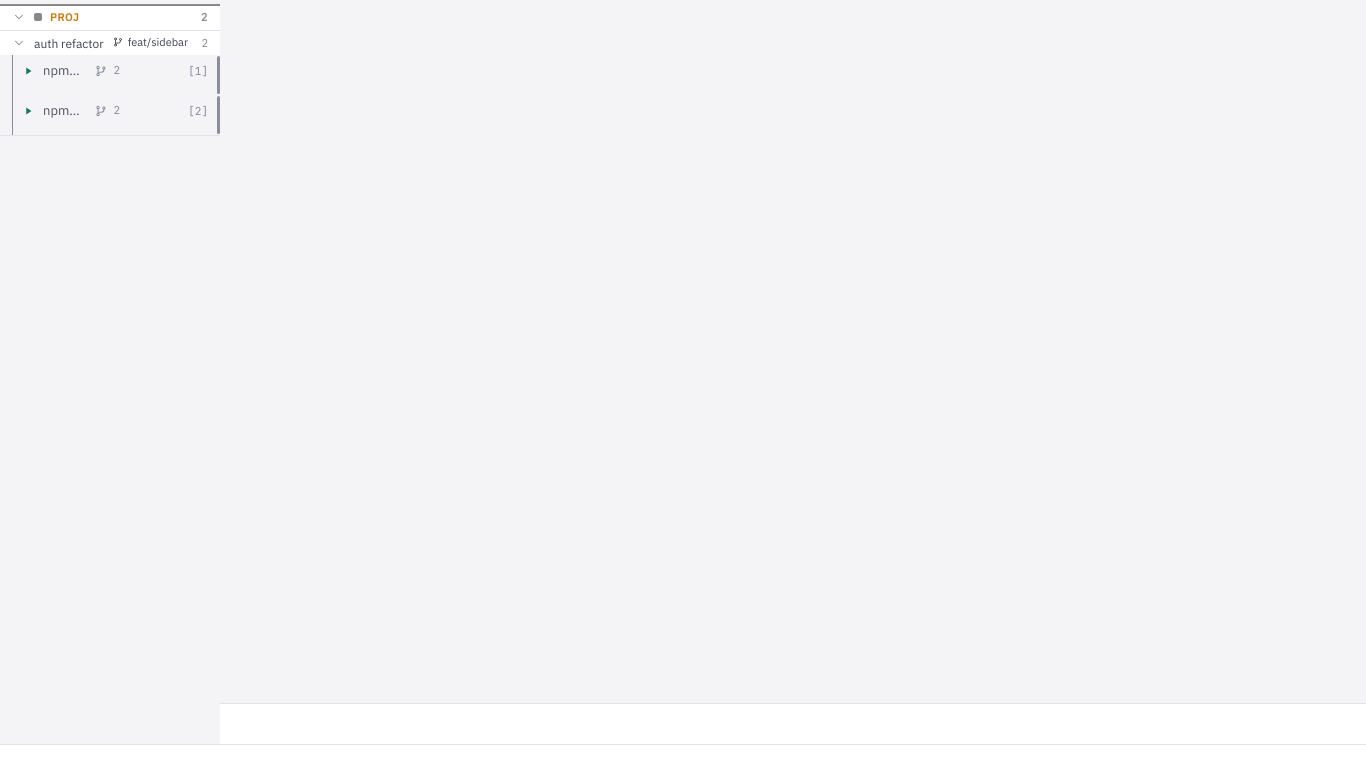
Test: worktree group rename › seeds the editor with the name once the group has one
This screenshot has width=1366, height=768.
Double-click the element with class "hv-worktree-group__title" at (114, 43), box [34,35,193,51]
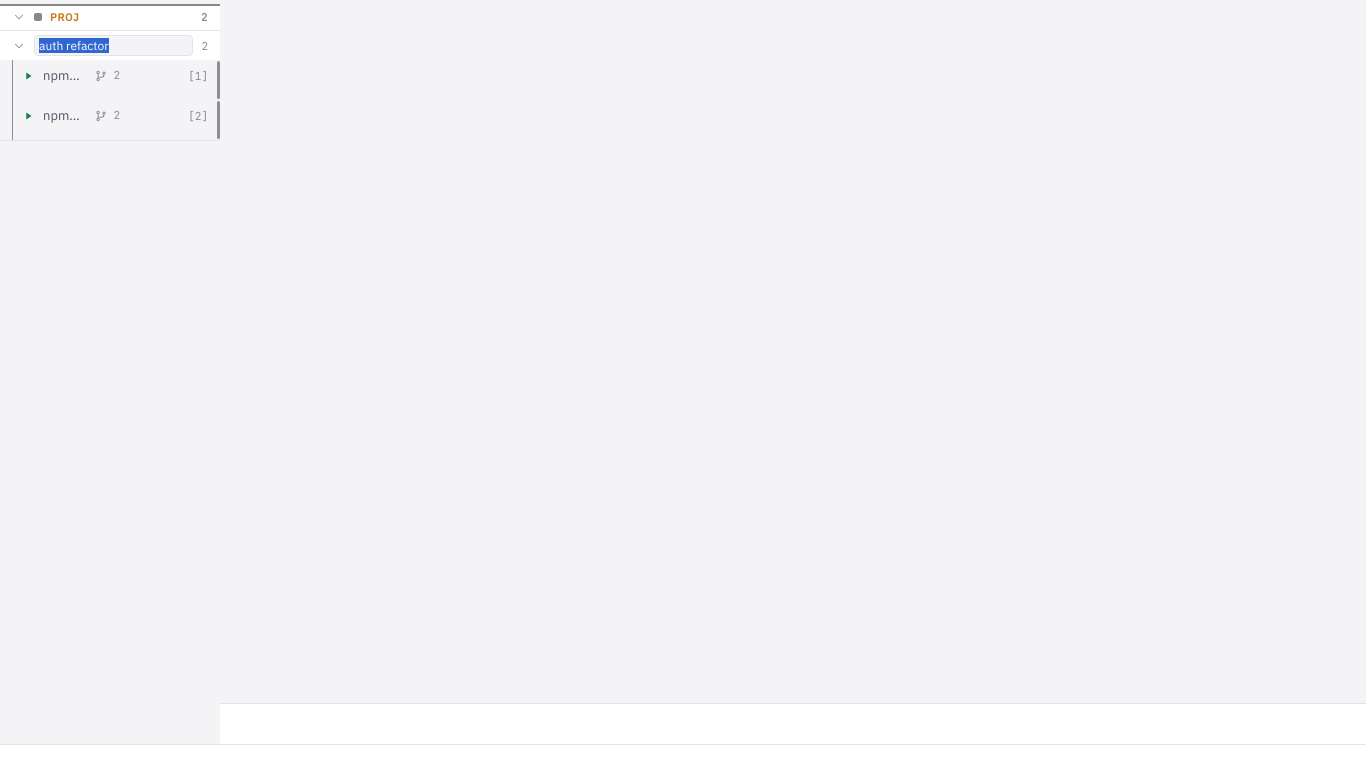
Now the field with class "group-name-input" holds "auth refactor", box [34,35,193,56]
